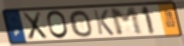1: (140, 6, 157, 36)
K: (92, 9, 116, 36)
M: (108, 6, 145, 37)
O: (68, 10, 95, 38), (45, 10, 70, 40)
X: (21, 11, 49, 41)
